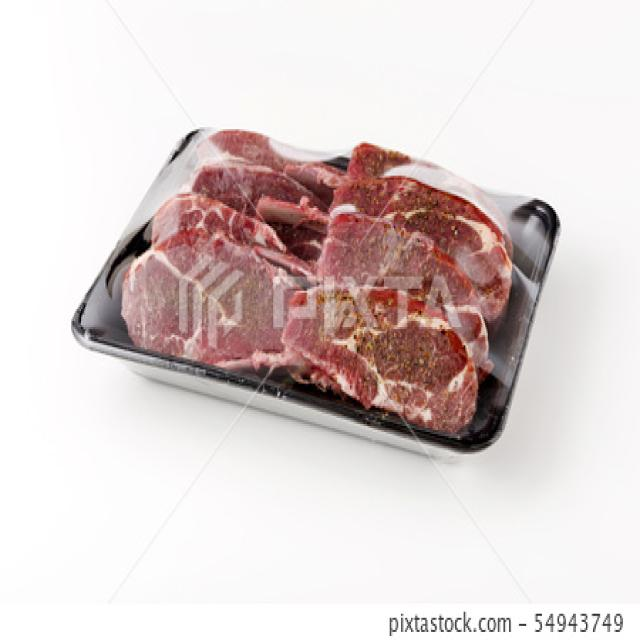pork: (79, 105, 568, 468)
